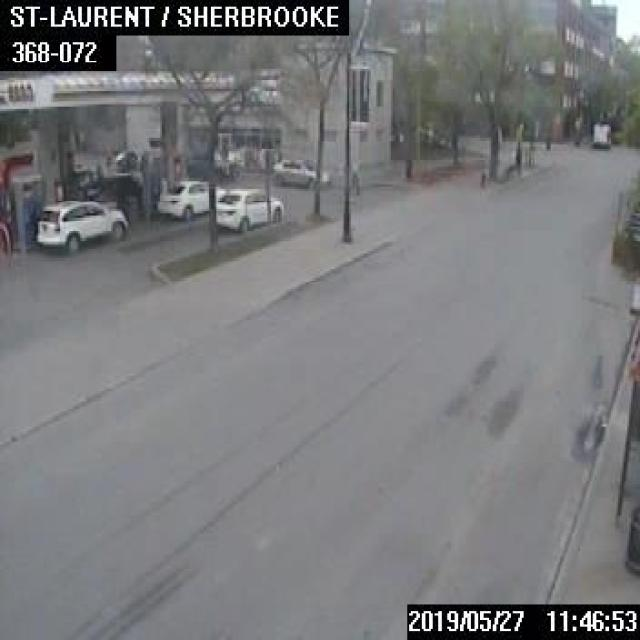vehicle: (34, 197, 127, 252), (214, 186, 282, 230), (155, 177, 226, 218), (270, 158, 329, 186), (104, 148, 136, 171), (589, 120, 609, 144)
